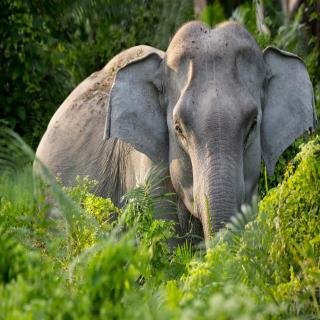Elephant: (27, 16, 320, 271)
